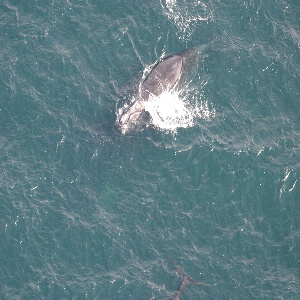cetacean: (111, 39, 209, 137)
